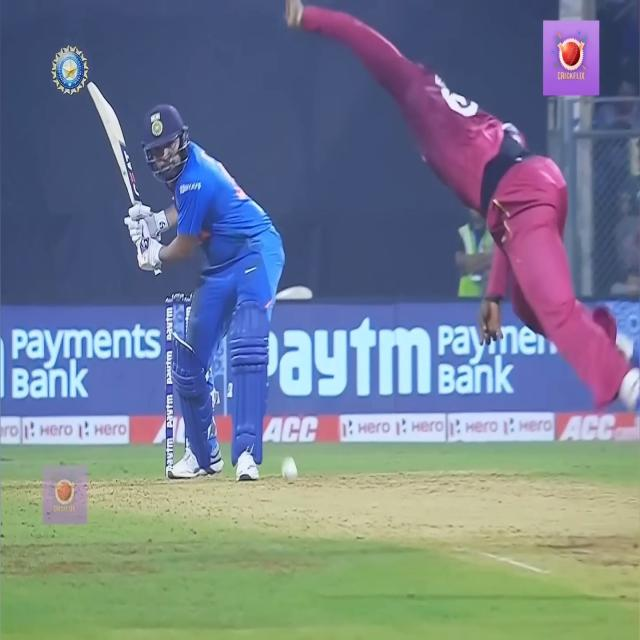partially_visible: (258, 314, 439, 410)
